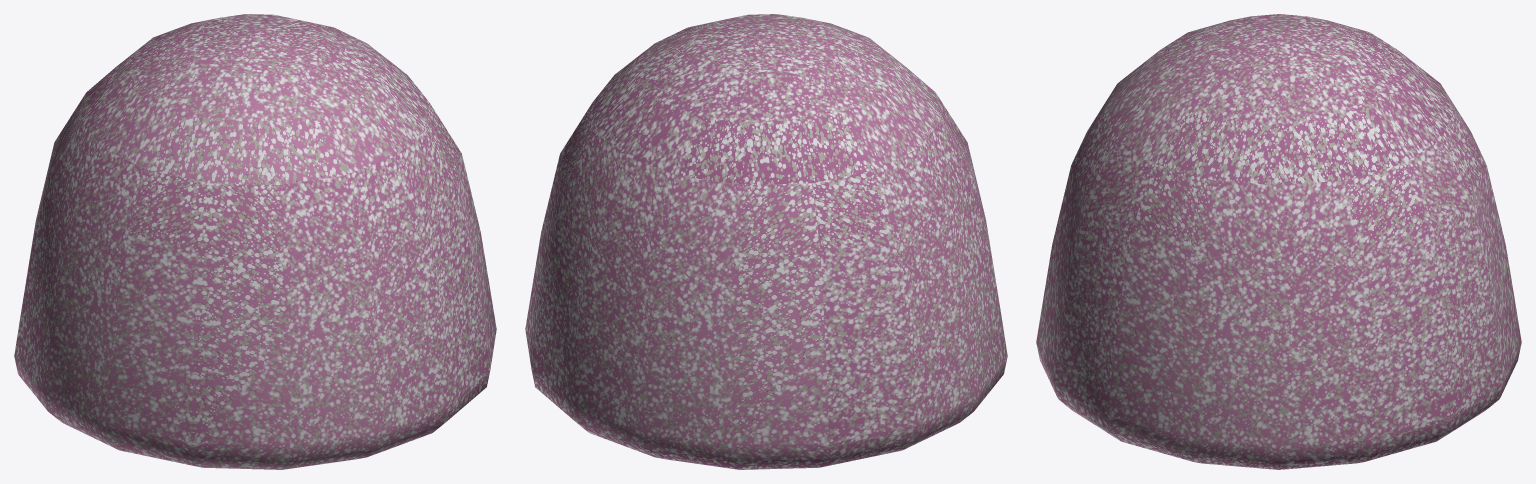
Rendered from Gummy.fbx.
The picture shows the model from 3 angles, left to right: view 1: azimuth 30°, elevation 25°; view 2: azimuth 150°, elevation 25°; view 3: azimuth 270°, elevation 25°; orthographic projection.
Visible parts, largest first — view 1: Gummy; view 2: Gummy; view 3: Gummy.
Boxes of the visible parts, x1,y1,x2,y2 form: Gummy: [14, 14, 496, 469]; Gummy: [525, 14, 1007, 469]; Gummy: [1036, 14, 1521, 469].
Bounding box in the file's own units: 0.0796 × 0.0638 × 0.0796.
